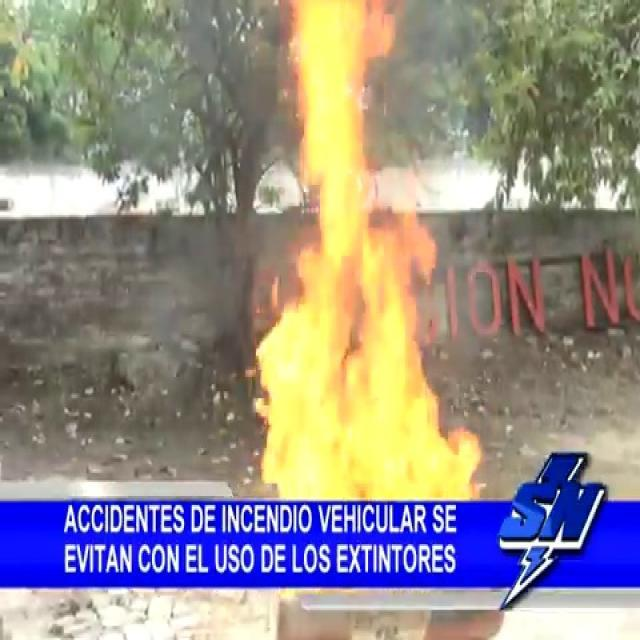Fire: (230, 0, 480, 501)
